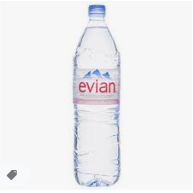Bottle: (72, 5, 121, 186)
